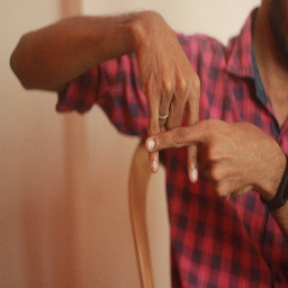H: (122, 78, 234, 195)
